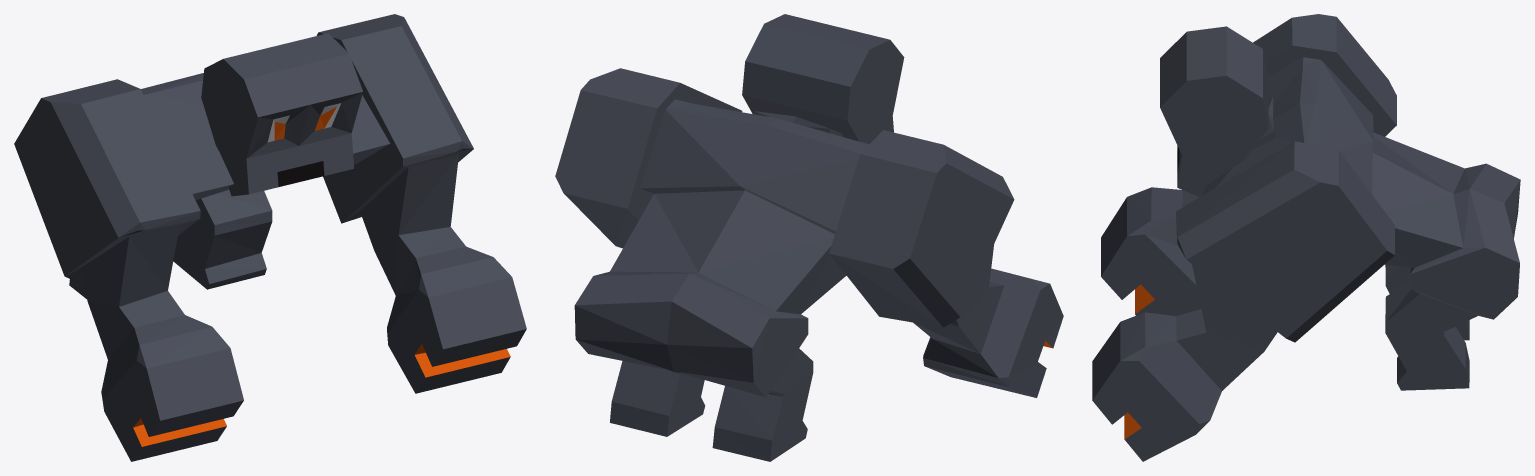
The model's file is kong_000027.obj.
3 views of the same model, side by side, from view 1: azimuth 30°, elevation 25°; view 2: azimuth 150°, elevation 25°; view 3: azimuth 270°, elevation 25° (orthographic). The views are drawn at different scales.
Visible parts, largest first — view 1: Cube; view 2: Cube; view 3: Cube.
Part boxes in pixels (left/top/right/bottom): Cube: left=14, top=14, right=526, bottom=461; Cube: left=555, top=14, right=1063, bottom=461; Cube: left=1092, top=14, right=1520, bottom=461.
Size of the model in its own units: 5.84 by 5.27 by 6.2.
Materials: 1 (1 with a texture image).
